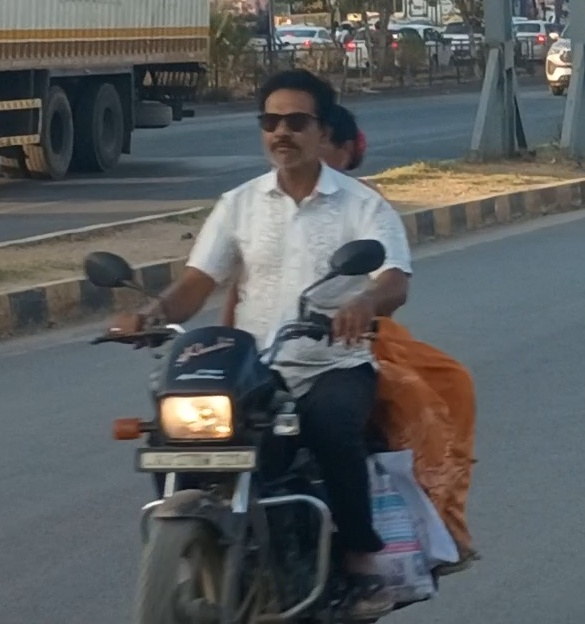BikeWithRider: (77, 65, 491, 624)
NoHelmet: (249, 67, 339, 177), (308, 98, 375, 177)
